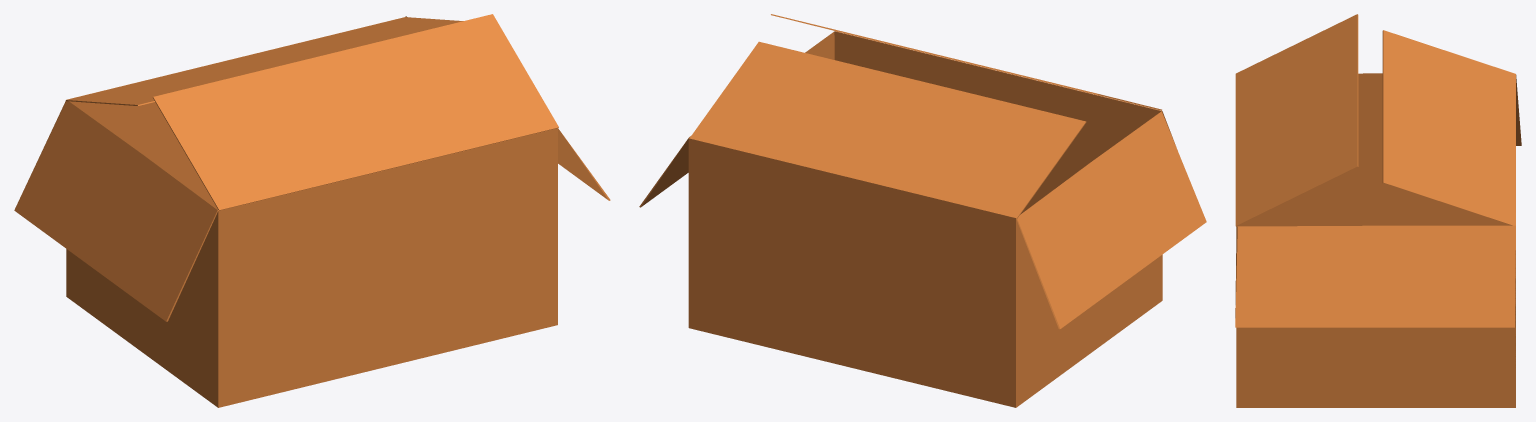
File: cardboard-box.fbx
3 renders of one model, left to right at view 1: azimuth 30°, elevation 25°; view 2: azimuth 150°, elevation 25°; view 3: azimuth 270°, elevation 25°, orthographic. The views are drawn at different scales.
Parts seen in each view (by area): view 1: cardboardBoxMesh; view 2: cardboardBoxMesh; view 3: cardboardBoxMesh.
Boxes of the visible parts, x1=… form: cardboardBoxMesh: x1=14, y1=14, x2=610, y2=407; cardboardBoxMesh: x1=639, y1=14, x2=1206, y2=407; cardboardBoxMesh: x1=1235, y1=14, x2=1521, y2=407.
Size of the model in its own units: 268 by 153 by 164.
